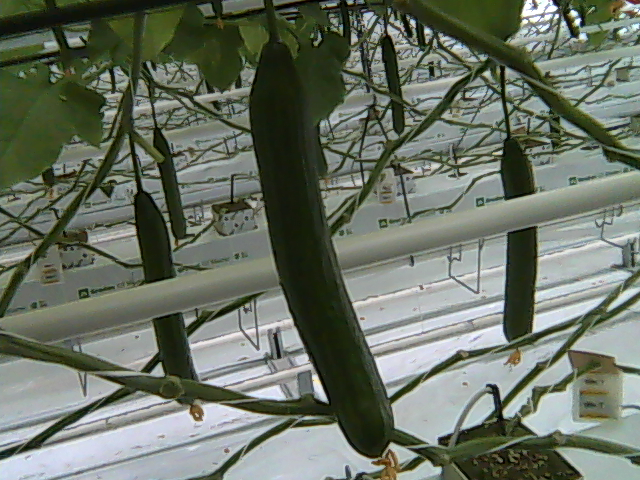concombre: (242, 38, 403, 480)
